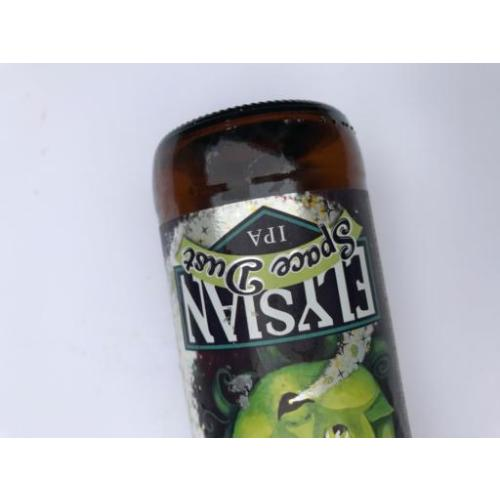glass: (151, 99, 412, 438)
